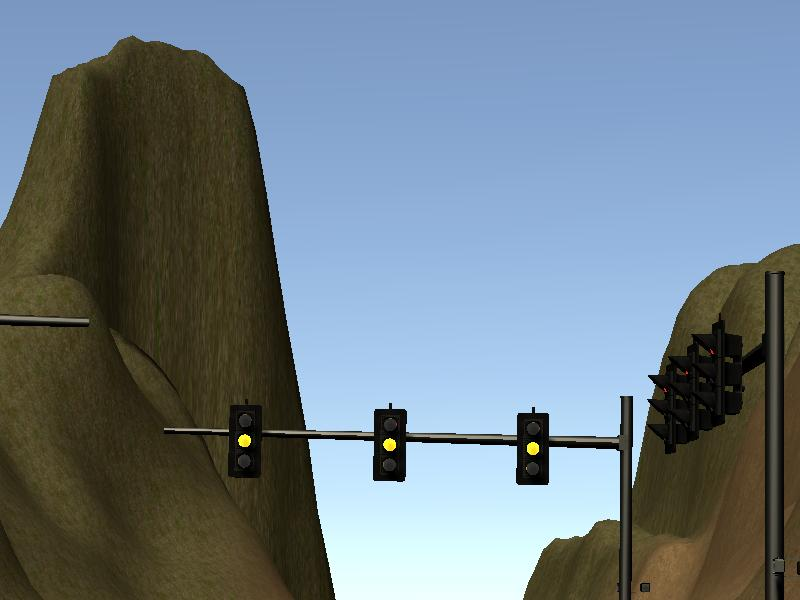Yellow: (228, 405, 262, 478), (515, 412, 547, 482), (375, 409, 406, 480)
